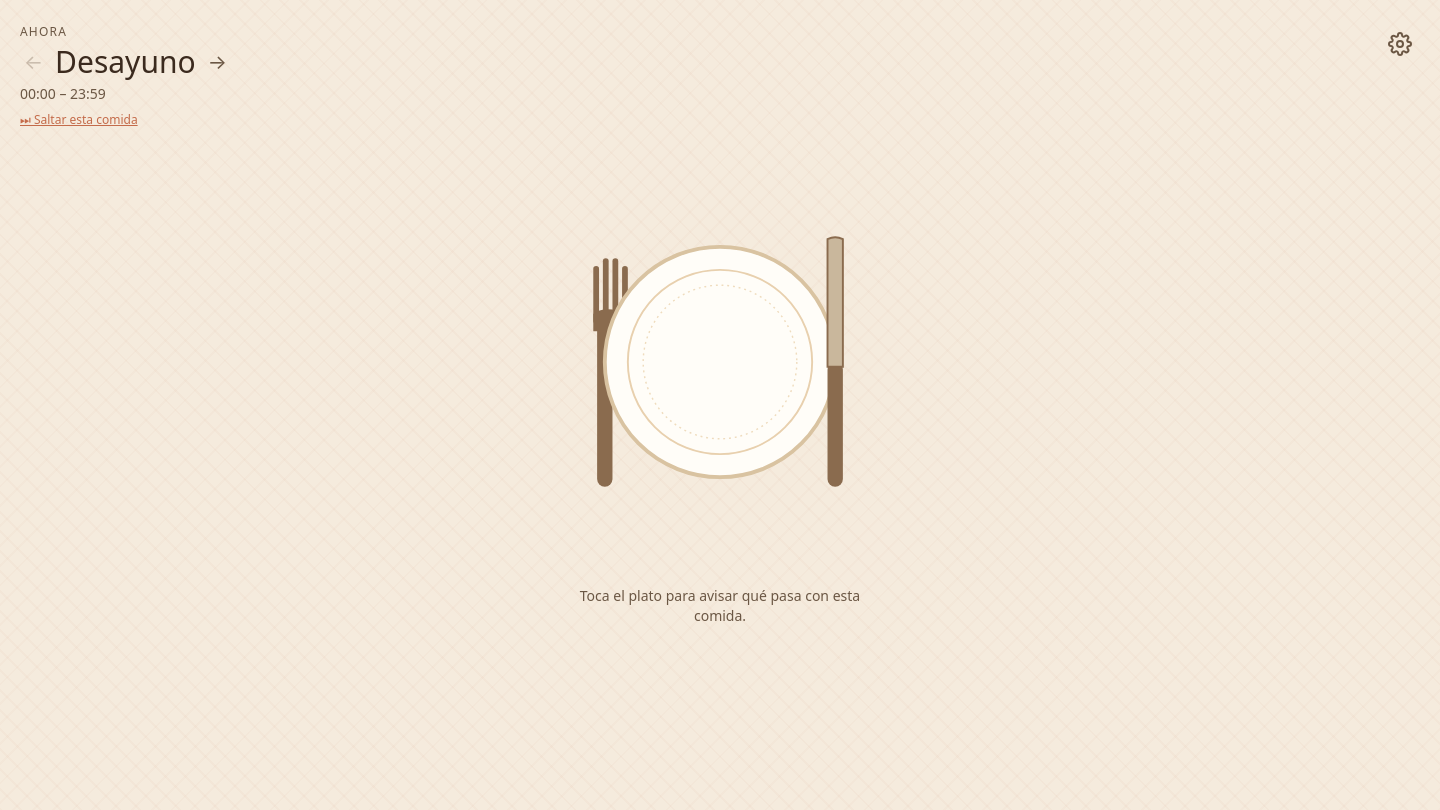
Test: App — Cambiar aviso pre-carga la selección previa › tras avisar con pollo+té, reabrir trae los chips marcados
Click the button named "avisar qué pasa": (720, 362) [528,170,912,554]
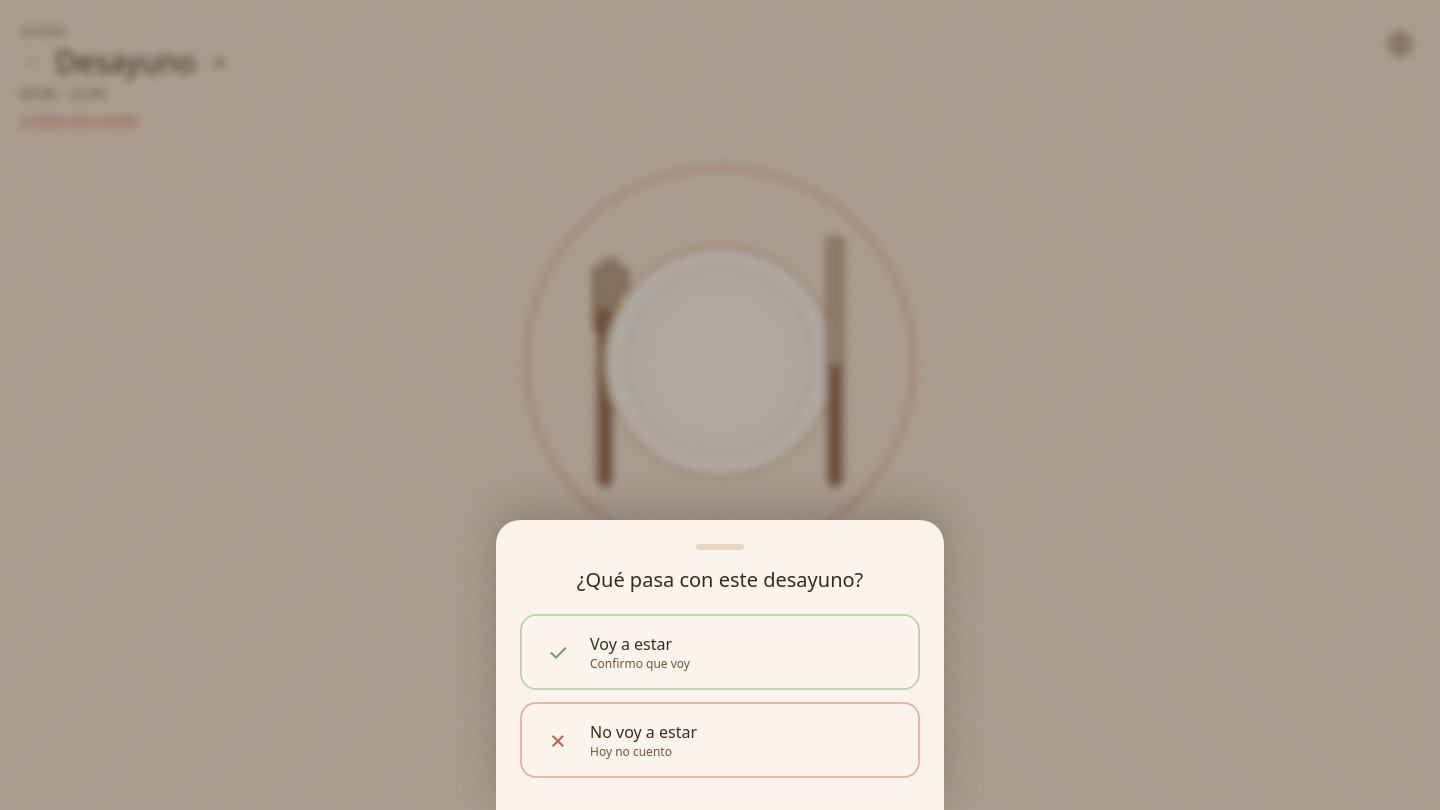
Click the button "✓ Voy a estar Confirmo que voy": (631, 644) [520,614,920,690]
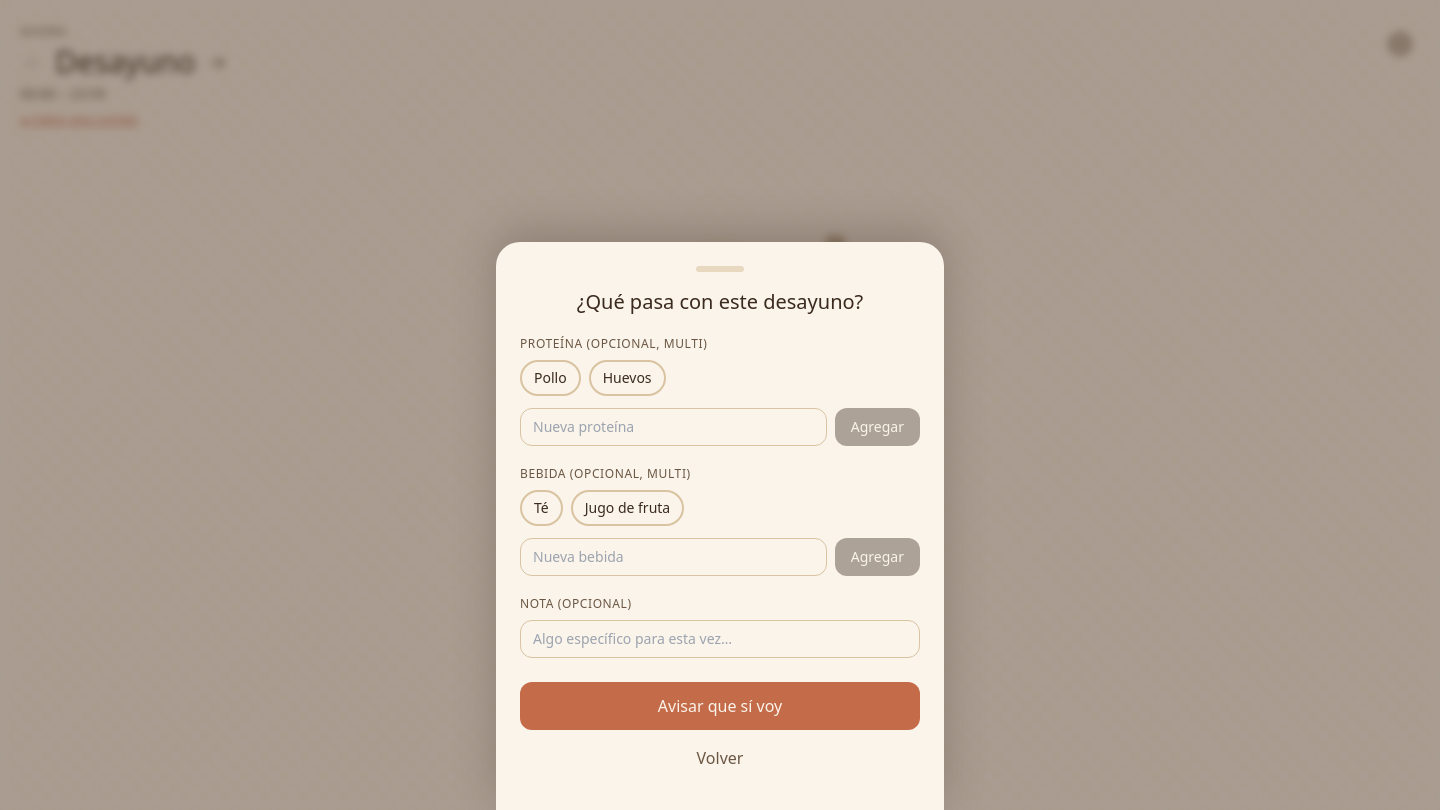
Click the button "Pollo": (550, 378) [520,360,581,396]
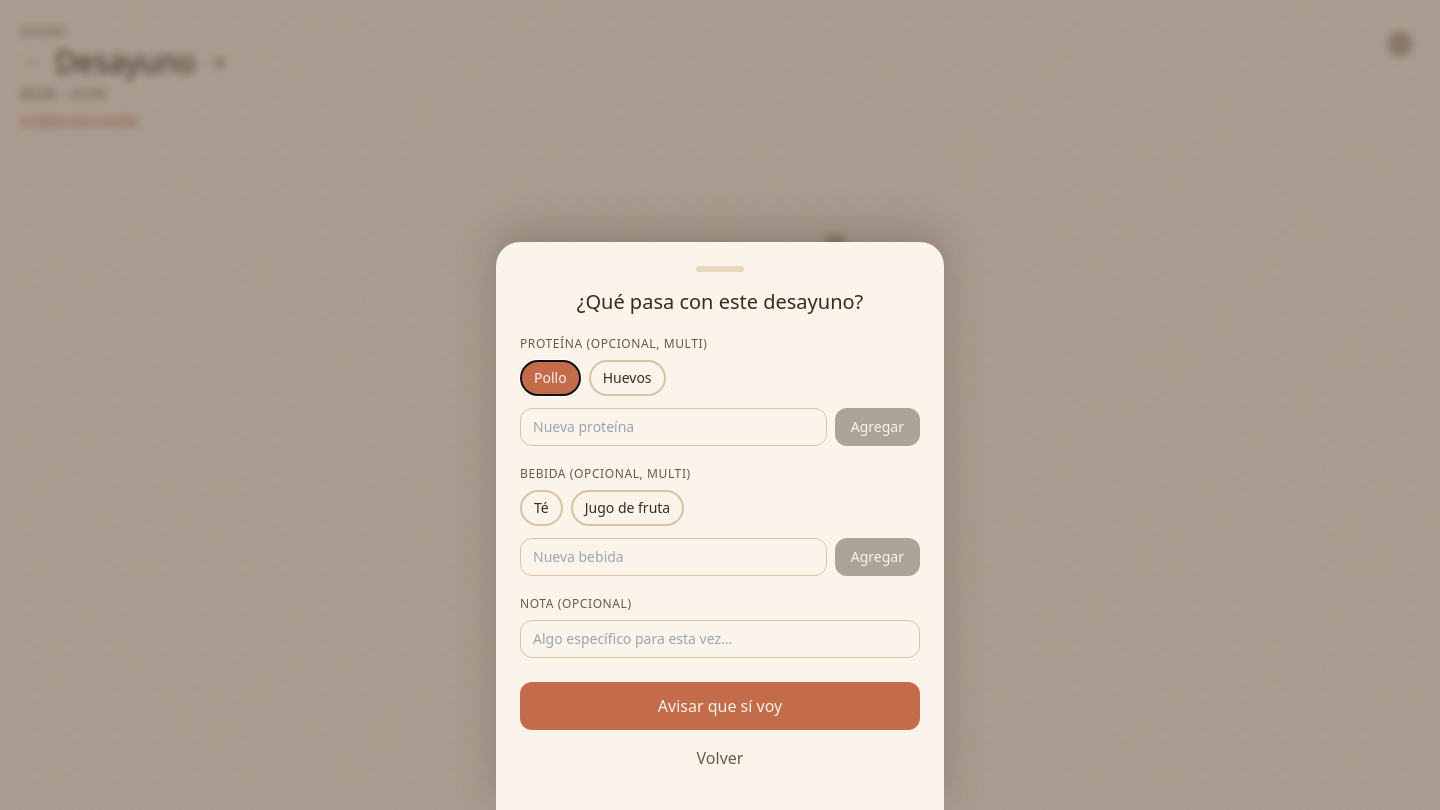
Click the button "Té": (541, 508) [520,490,563,526]
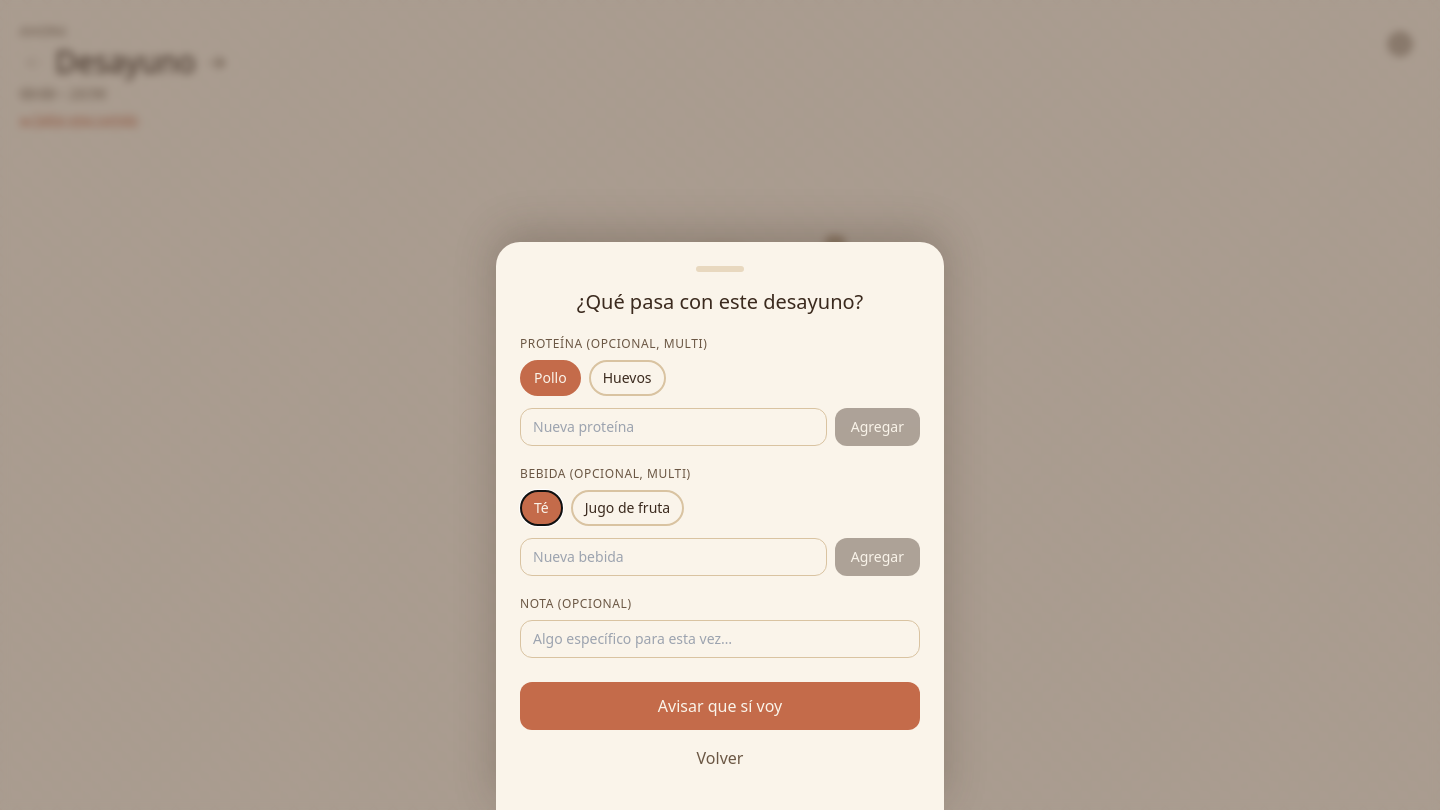
Click the button "Avisar que sí voy": (720, 706) [520,682,920,730]
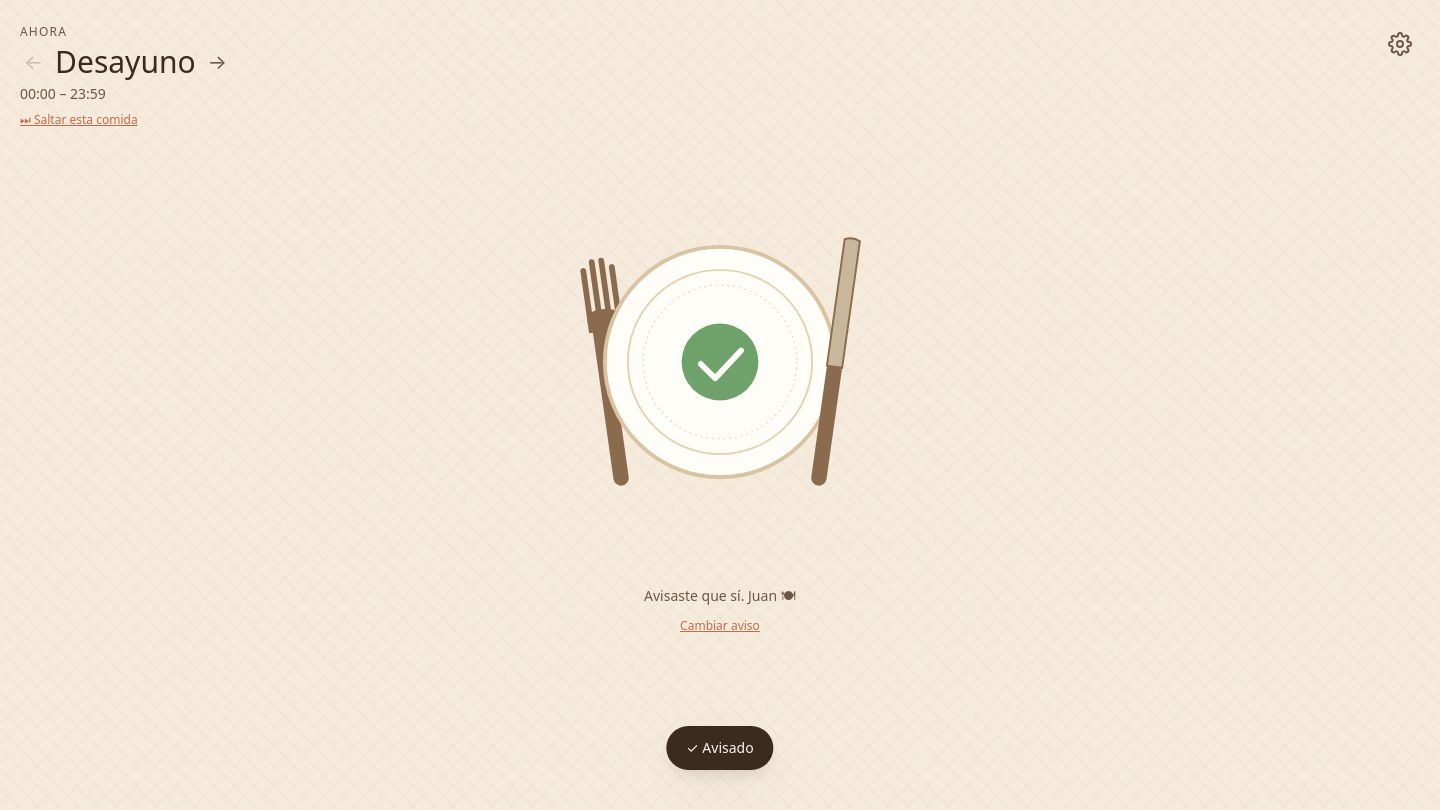
Note: Reabrir con "Cambiar aviso"
Click the button "Cambiar aviso": (720, 626) [680,618,760,634]
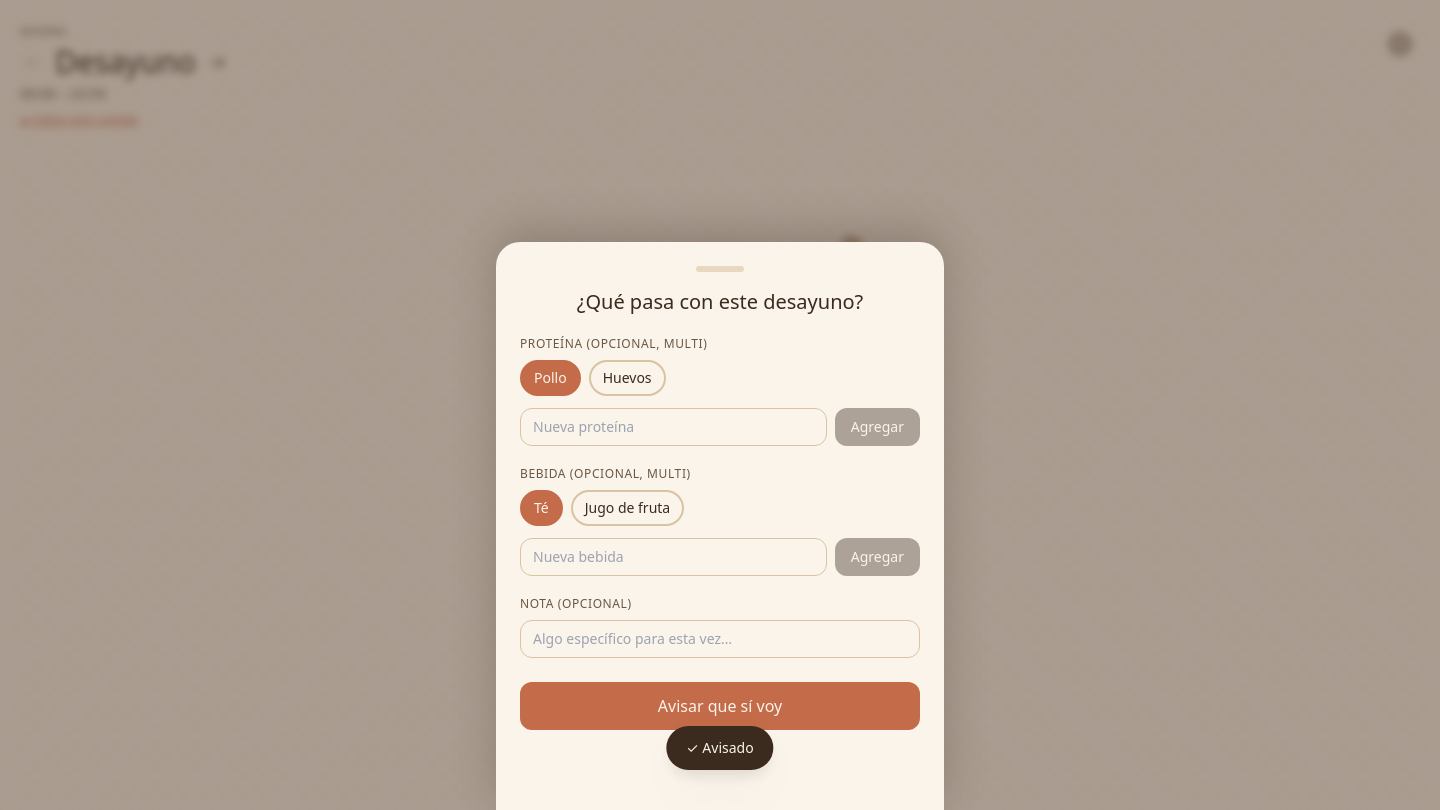
Result: the button "Avisar que sí voy" is shown at [520,682,920,730]
